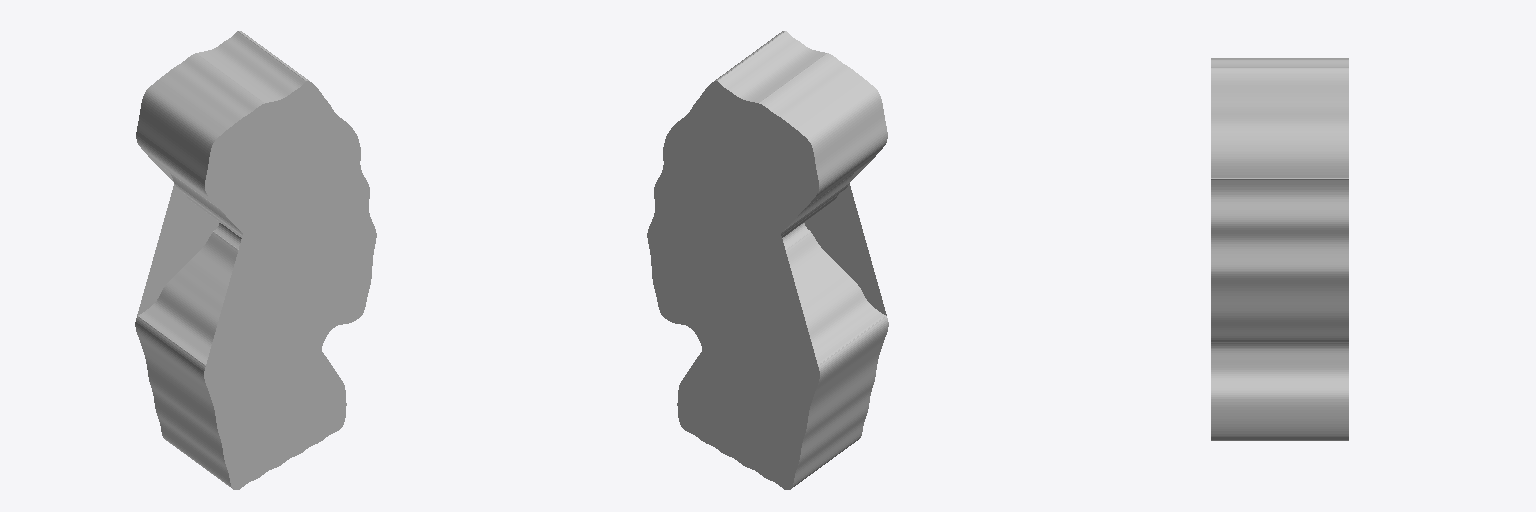
The picture shows the model from 3 angles: view 1: azimuth 30°, elevation 25°; view 2: azimuth 150°, elevation 25°; view 3: azimuth 270°, elevation 25°; orthographic projection.
Visible parts, largest first — view 1: 平面; view 2: 平面; view 3: 平面.
Part boxes in pixels (left/top/right/bottom): 平面: left=135, top=31, right=376, bottom=489; 平面: left=647, top=31, right=888, bottom=489; 平面: left=1211, top=58, right=1348, bottom=440.
Size of the model in its own units: 0.29 by 0.63 by 0.2.